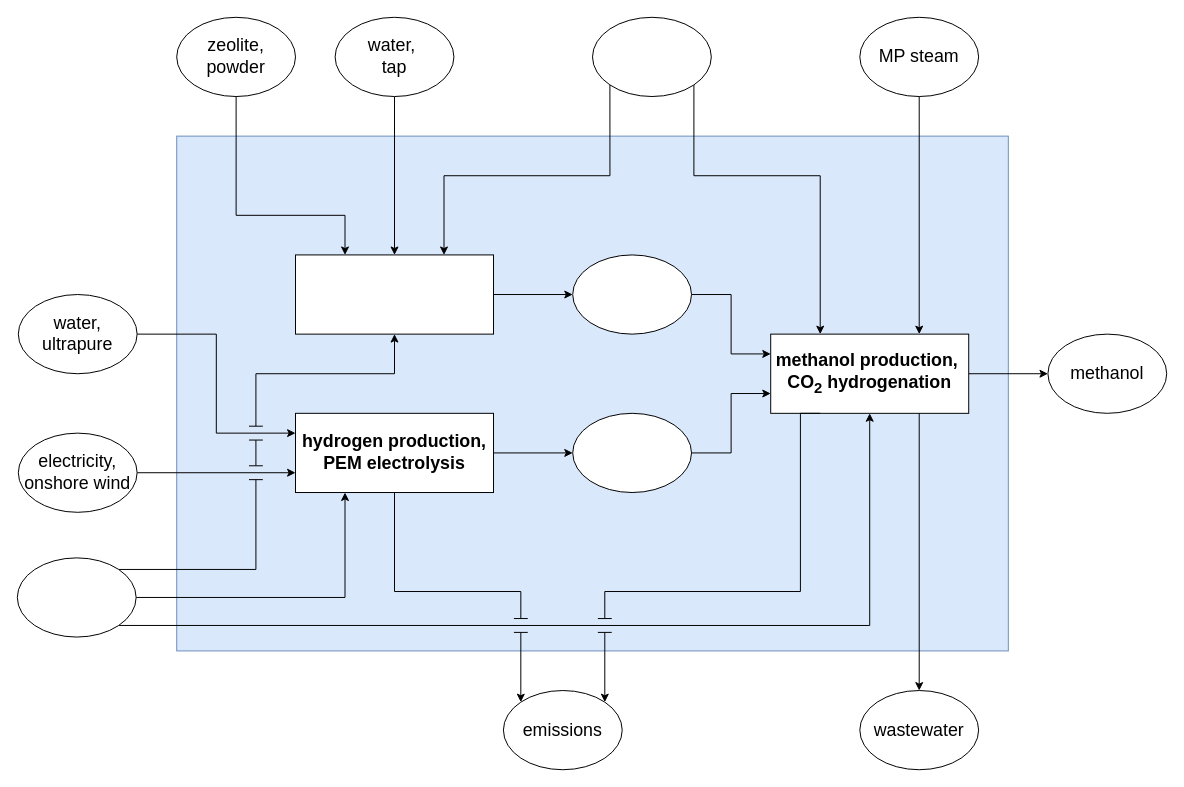
The diagram is 1184 pixels wide and 787 high, and some of its shapes have lost their labels. The centre of each missing label's shape, as x and y in pixels:
carbon dioxide capture, point-source emission: the point at 394,294
carbon dioxide, captured: the point at 632,294
electricity, grid: the point at 651,56
hydrogen, elctrolitic: the point at 632,452
infrastructure: the point at 76,597
